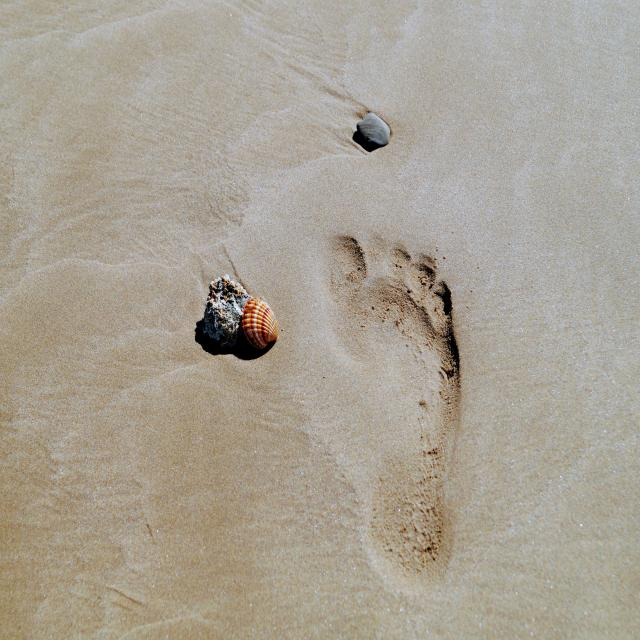human_footprint: (309, 203, 516, 604)
